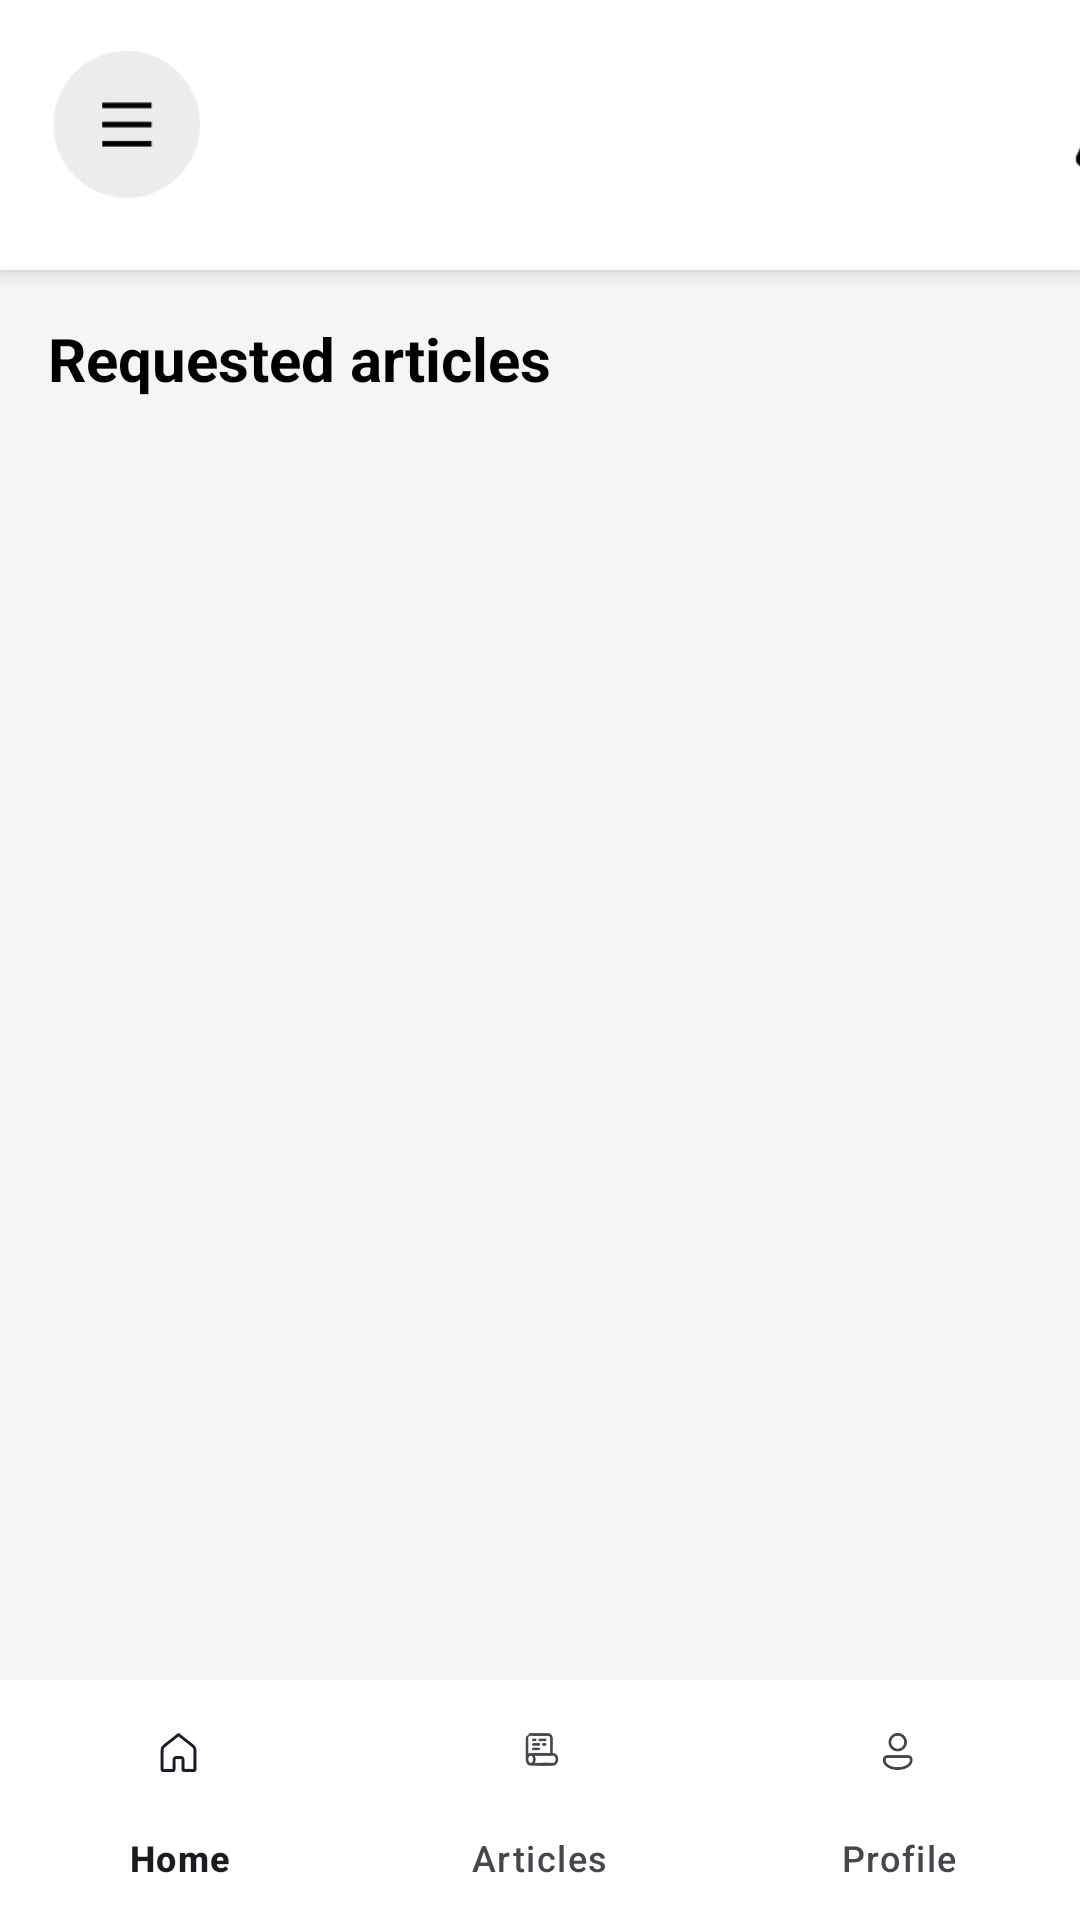

Locate icon controls on the screen. Image size 1080x1920, boxes as region(x1, y1, x2, y2).
listicon: region(53, 51, 200, 198)
